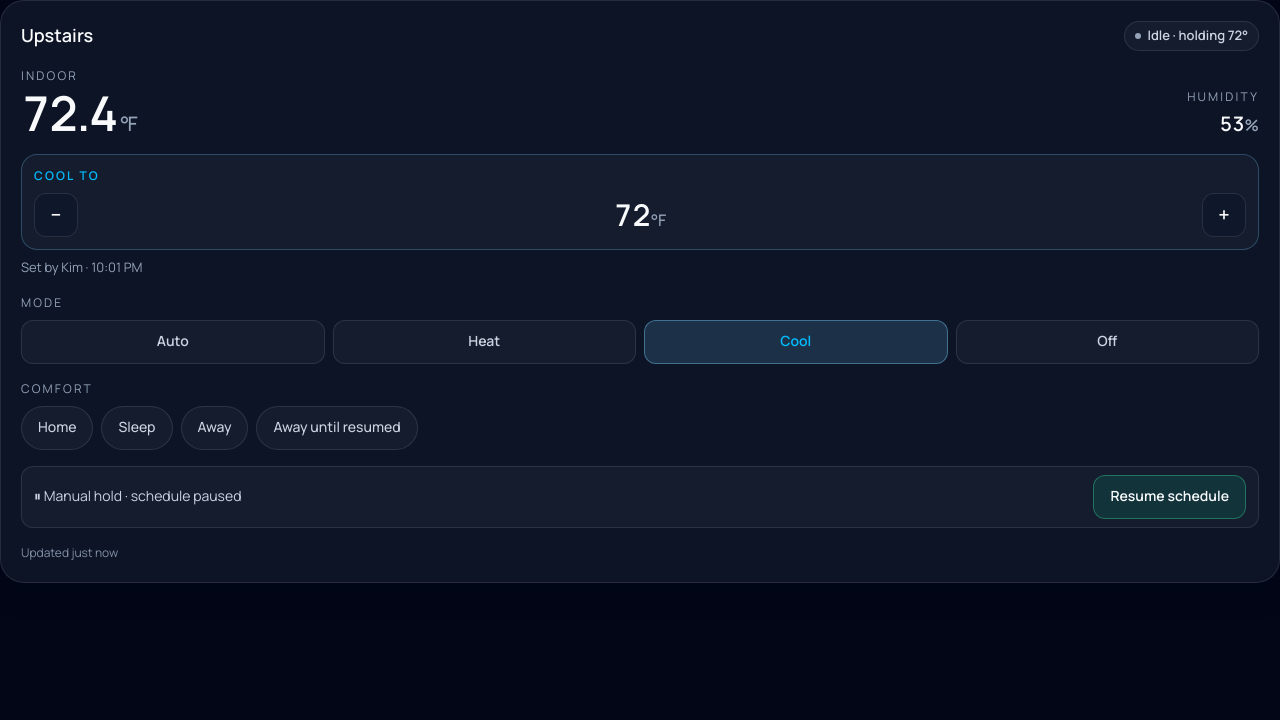
it: recent change by someone else › Cancel leaves the thermostat alone
Click the button "Resume schedule".
click(1170, 496)  # box [1093,474,1246,518]
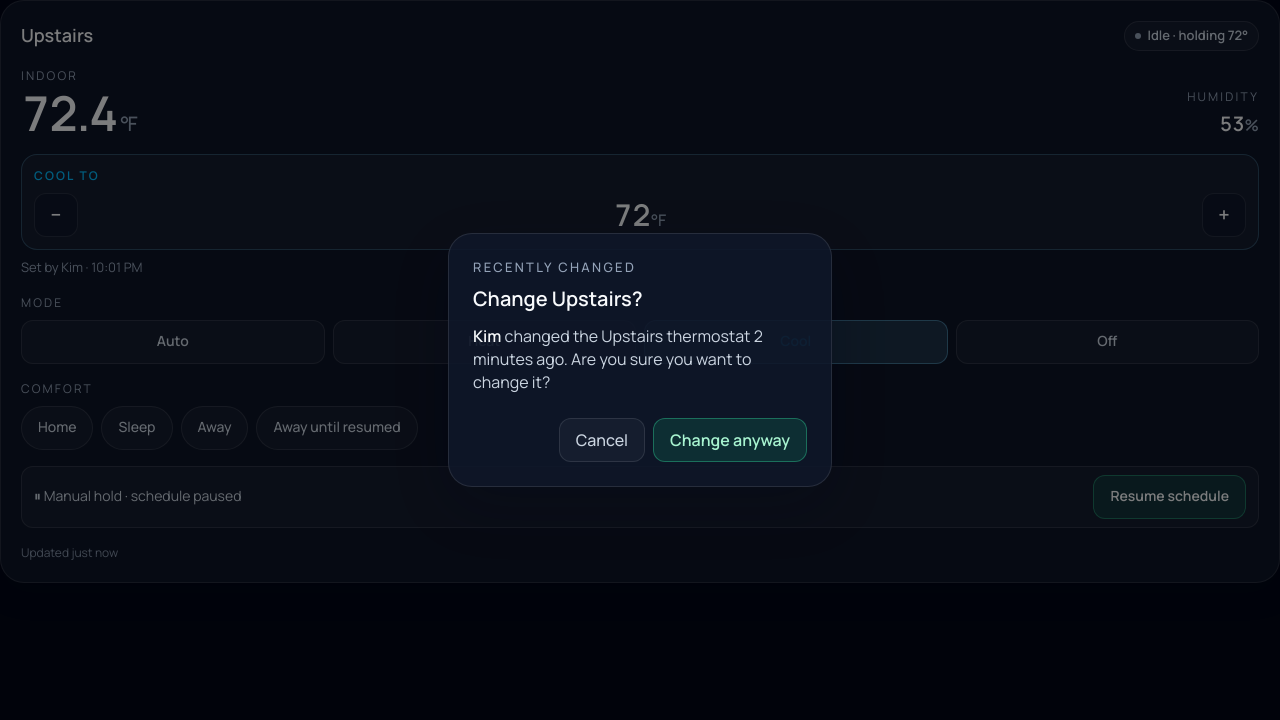
Click the button "Cancel".
click(602, 440)  # box [559,418,645,462]
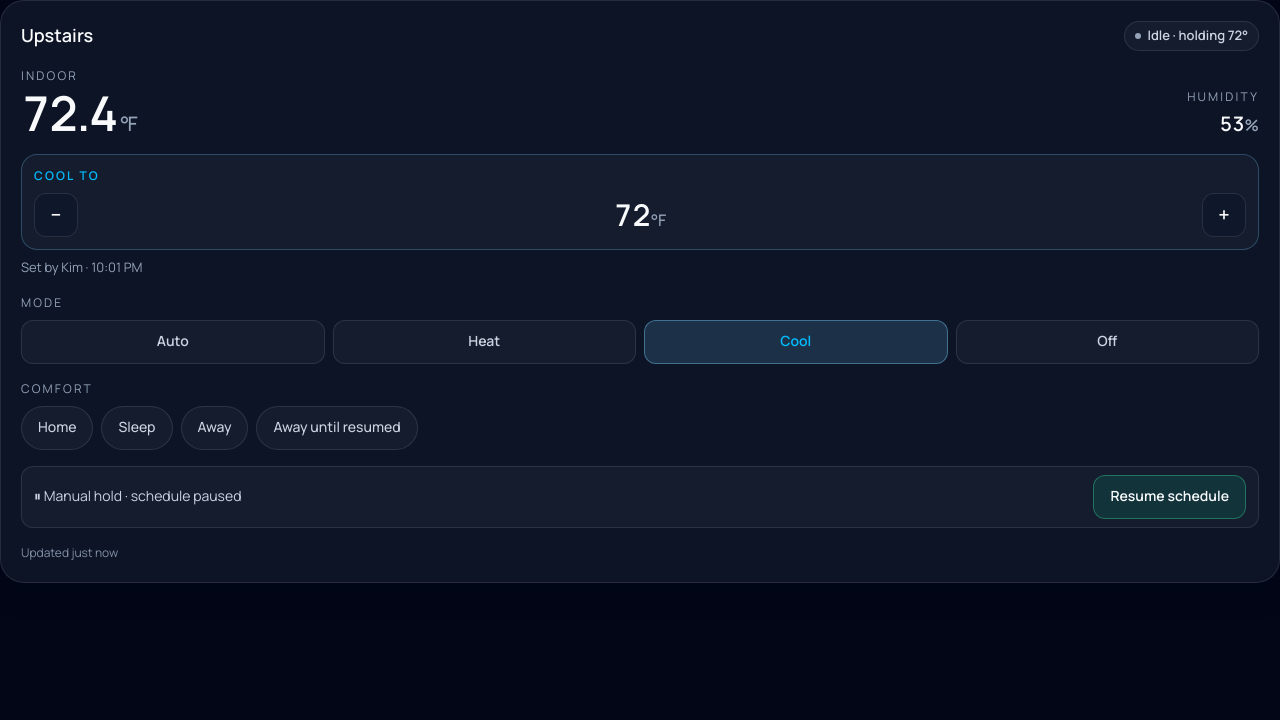
Result: the dialog is gone
